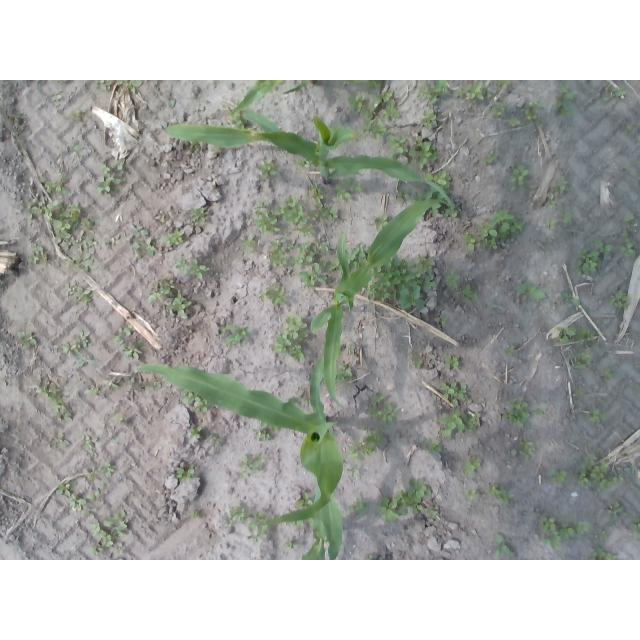Maize: (128, 360, 344, 560), (164, 110, 460, 216), (310, 191, 435, 405), (229, 80, 316, 112)
Weeds: (363, 253, 436, 307), (377, 478, 431, 523), (476, 209, 524, 252), (43, 199, 83, 249), (270, 314, 309, 364), (576, 453, 625, 492), (280, 195, 316, 238), (439, 409, 482, 441), (35, 387, 73, 421), (97, 160, 126, 195), (408, 136, 438, 169), (288, 240, 320, 269), (372, 89, 400, 120), (253, 200, 280, 232), (424, 169, 452, 199), (61, 329, 91, 356), (175, 257, 210, 280), (505, 397, 531, 427), (219, 324, 251, 348), (418, 80, 450, 104), (440, 381, 469, 407), (346, 241, 371, 271), (62, 284, 92, 309), (556, 82, 576, 118), (540, 515, 561, 549), (359, 428, 384, 456), (576, 248, 601, 276), (367, 403, 397, 426), (89, 521, 115, 547), (239, 451, 265, 477), (347, 93, 373, 119), (334, 176, 362, 200), (300, 263, 328, 287), (104, 509, 128, 537), (248, 512, 268, 545), (168, 291, 193, 317), (515, 280, 545, 301), (361, 116, 387, 140), (148, 280, 176, 302), (507, 164, 529, 192), (261, 283, 288, 305), (40, 175, 70, 194), (488, 484, 514, 505), (132, 238, 158, 259), (72, 252, 99, 272), (269, 237, 288, 265), (493, 535, 516, 558), (224, 506, 249, 527), (465, 82, 492, 101), (562, 522, 591, 539), (456, 284, 479, 305), (341, 80, 381, 92), (609, 289, 631, 310), (388, 133, 409, 155), (22, 198, 43, 220), (524, 100, 544, 123), (348, 496, 369, 517), (27, 244, 48, 265), (316, 203, 339, 222), (74, 352, 99, 369), (569, 351, 591, 370), (121, 341, 144, 359), (228, 109, 248, 129), (334, 365, 356, 383), (116, 80, 144, 94), (162, 230, 185, 247), (554, 326, 577, 343), (606, 500, 625, 520), (591, 546, 618, 560), (461, 457, 482, 475), (443, 268, 461, 289), (15, 331, 37, 348), (257, 160, 279, 177), (419, 111, 438, 130), (176, 465, 196, 483), (551, 176, 569, 196), (295, 492, 314, 510), (577, 325, 596, 343), (56, 482, 76, 499), (518, 440, 535, 460), (606, 83, 627, 99), (620, 238, 636, 259), (371, 214, 390, 231), (253, 427, 275, 441), (98, 461, 117, 477), (194, 394, 210, 413), (423, 439, 444, 453), (189, 206, 207, 222), (318, 260, 342, 272), (131, 222, 149, 238), (444, 354, 460, 371), (587, 409, 605, 424), (563, 293, 581, 308), (463, 232, 477, 251), (241, 234, 257, 250), (181, 389, 196, 406), (629, 515, 640, 538), (549, 468, 567, 482), (310, 182, 323, 201), (491, 103, 507, 118), (596, 241, 612, 256), (316, 238, 330, 255), (70, 497, 87, 511), (345, 446, 359, 463), (293, 157, 311, 170), (81, 216, 99, 229), (93, 81, 113, 92), (81, 436, 95, 451), (285, 518, 311, 526), (465, 489, 481, 502), (105, 233, 121, 246), (543, 217, 557, 231), (486, 151, 499, 166), (445, 204, 460, 217), (82, 507, 98, 519), (396, 188, 409, 202), (70, 109, 84, 122), (81, 236, 95, 249), (546, 191, 557, 207), (188, 426, 202, 438), (602, 367, 614, 381), (430, 202, 444, 214), (69, 142, 83, 154), (87, 490, 102, 501), (103, 379, 119, 389), (83, 468, 95, 481), (562, 211, 574, 224), (84, 388, 100, 397), (282, 542, 298, 551), (599, 528, 610, 541), (118, 326, 132, 336), (111, 334, 125, 344), (427, 507, 438, 519), (372, 393, 384, 404), (624, 213, 635, 225), (495, 80, 511, 88), (51, 92, 62, 103), (156, 213, 168, 223), (112, 416, 125, 425), (191, 509, 202, 519), (189, 139, 200, 149), (58, 439, 70, 448), (508, 118, 520, 127), (412, 194, 424, 203), (8, 114, 20, 123), (148, 381, 161, 389), (439, 316, 449, 326), (455, 88, 465, 98), (415, 359, 424, 370), (575, 390, 586, 399), (535, 408, 546, 417), (506, 345, 515, 356), (91, 547, 104, 554), (351, 467, 360, 477), (287, 397, 298, 405), (270, 424, 279, 433), (259, 420, 269, 428), (626, 124, 634, 132), (621, 230, 629, 238), (361, 554, 371, 560), (349, 344, 356, 351), (56, 80, 68, 84)
